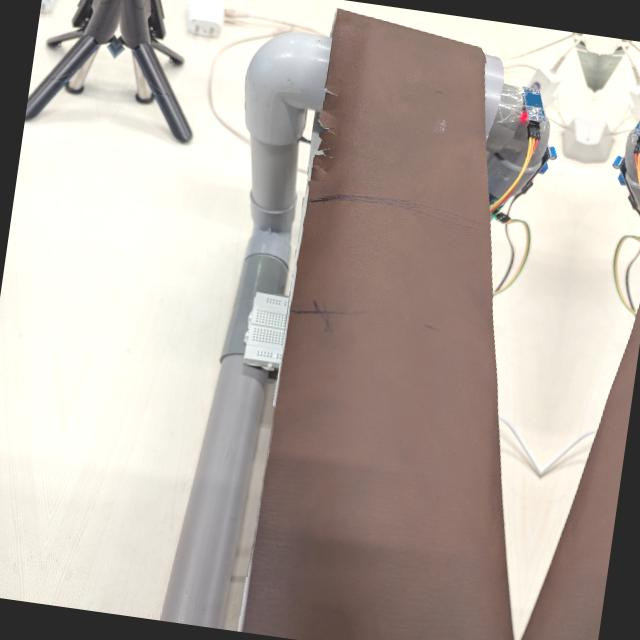edge_damage: (300, 75, 353, 189)
